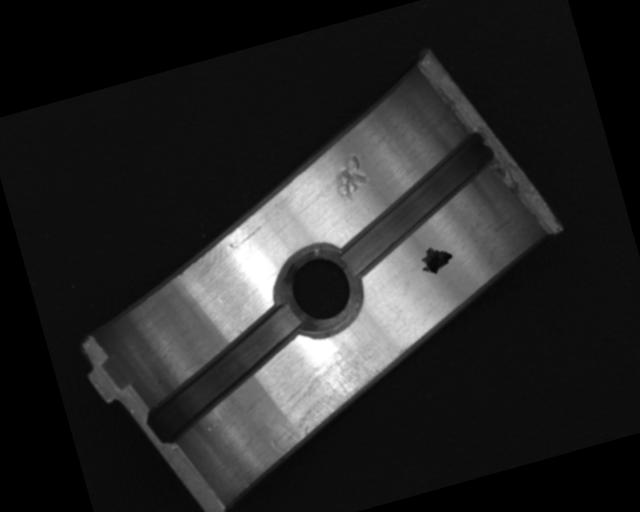blot: (415, 238, 457, 278)
bruise: (327, 151, 376, 206)
gap: (123, 296, 320, 447), (319, 129, 513, 278)
hole: (272, 236, 366, 345)
scratch: (249, 330, 407, 460)
